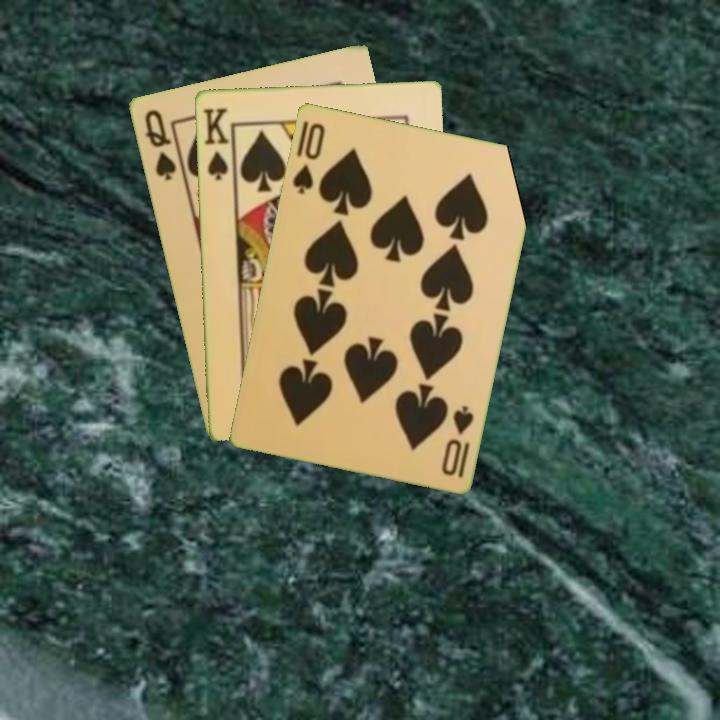10s: (288, 118, 328, 197), (437, 401, 477, 480)
Ks: (199, 104, 231, 183)
Qs: (140, 105, 179, 184)
